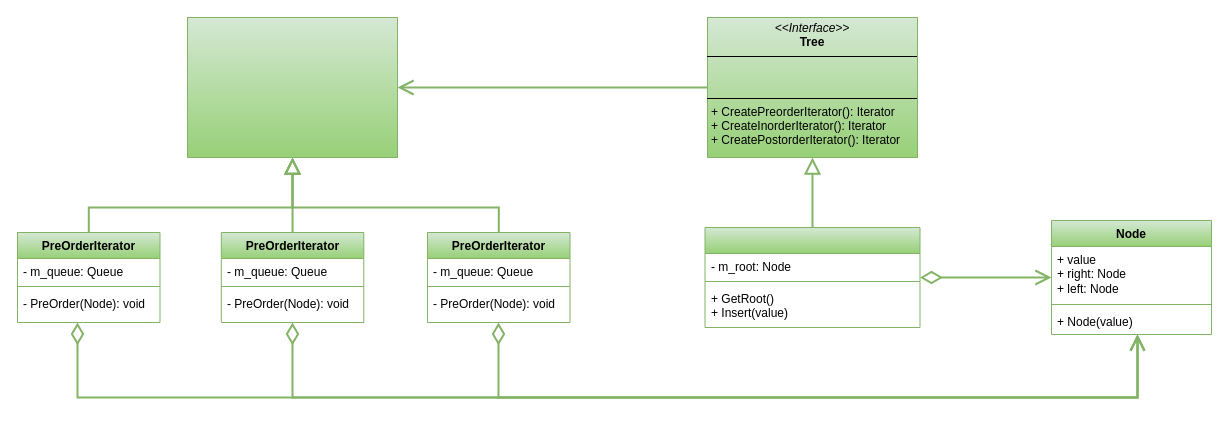
This 1229x435 diagram has some shape labels left out. Here are the shapes that lost their labels. From the top down, the box of each, then its label:
(186, 16, 398, 158): <<Interface>> Iterator + HasNext(): bool + Next()
(704, 226, 920, 328): BinaryTree
